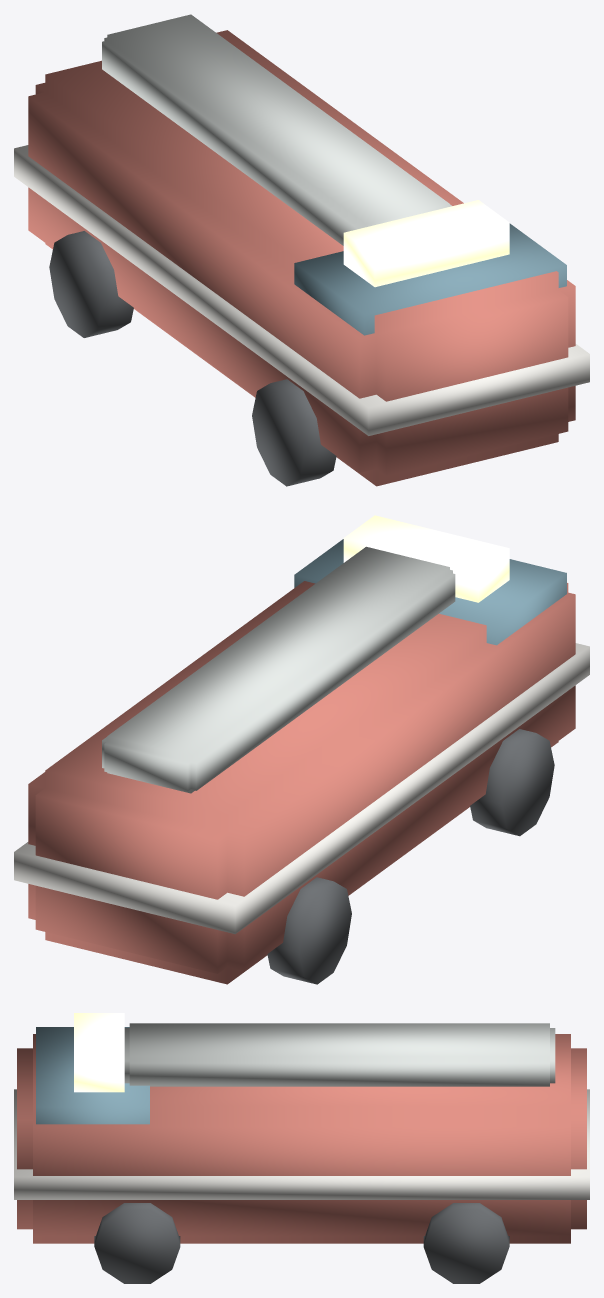
File: fire-truck.glb
3 views of the same model, one above another, from view 1: azimuth 30°, elevation 25°; view 2: azimuth 150°, elevation 25°; view 3: azimuth 270°, elevation 25° (orthographic). The views are drawn at different scales.
Parts seen in each view (by area): view 1: FireTruck; view 2: FireTruck; view 3: FireTruck.
Part boxes in pixels (left/top/right/bottom): FireTruck: left=14, top=14, right=589, bottom=486; FireTruck: left=14, top=515, right=589, bottom=984; FireTruck: left=14, top=1013, right=589, bottom=1283.
Bounding box in the file's own units: 0.37 × 0.3392 × 0.91.
